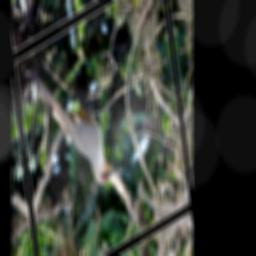Cuckoo: (26, 20, 125, 222)
